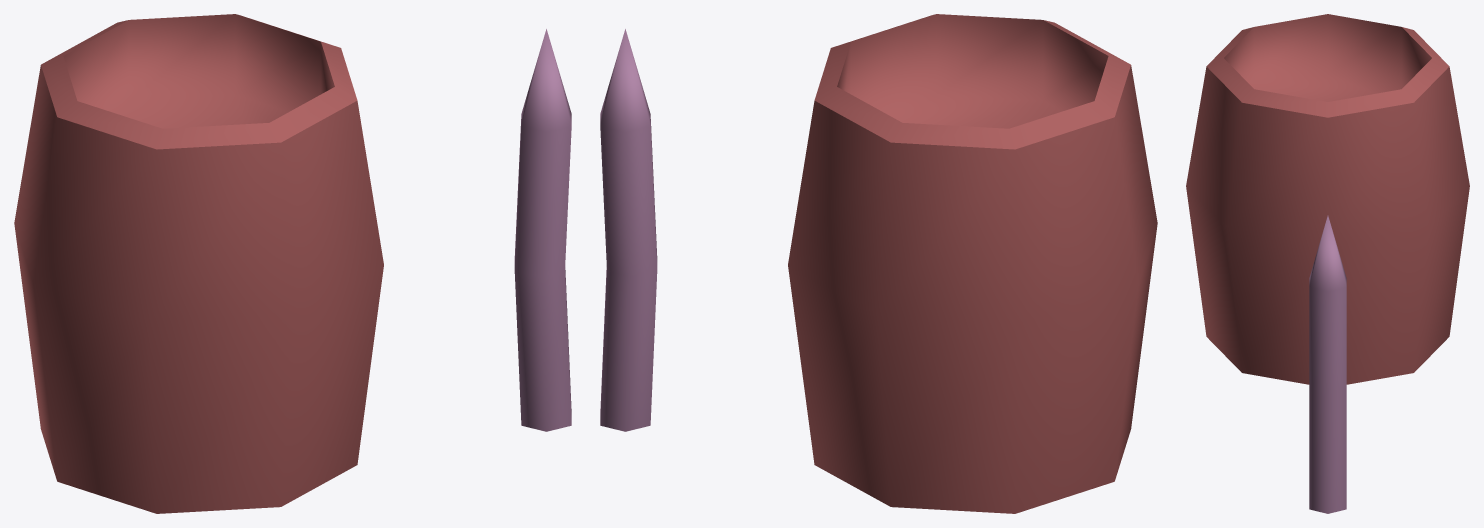
Rendered from barril_palo.fbx.
3 renders of one model, left to right at view 1: azimuth 30°, elevation 25°; view 2: azimuth 150°, elevation 25°; view 3: azimuth 270°, elevation 25°, orthographic. The views are drawn at different scales.
Visible parts, largest first — view 1: pCylinder4, pCylinder5; view 2: pCylinder4, pCylinder5; view 3: pCylinder4, pCylinder5.
Boxes of the visible parts, x1,y1,x2,y2 form: pCylinder4: [14, 14, 383, 513]; pCylinder5: [514, 29, 571, 431]; pCylinder4: [788, 14, 1157, 513]; pCylinder5: [600, 29, 657, 431]; pCylinder4: [1186, 14, 1469, 384]; pCylinder5: [1309, 215, 1346, 513].
Bounding box in the file's own units: 3.79 × 2.91 × 2.34.
